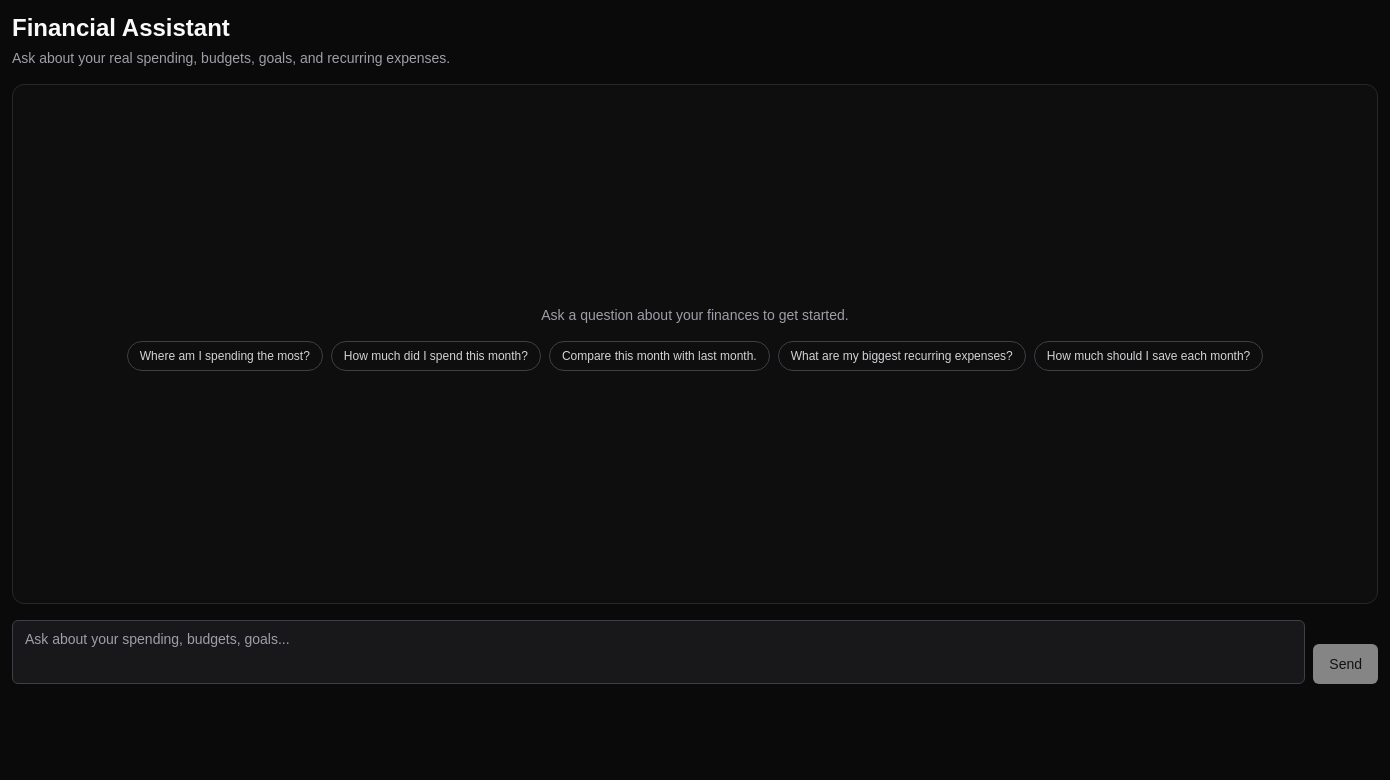
Test: AiAssistantPage › sends a message and renders the assistant's response
The width and height of the screenshot is (1390, 780).
Click the button "Where am I spending the most?" at (225, 356), box [127, 341, 323, 371]
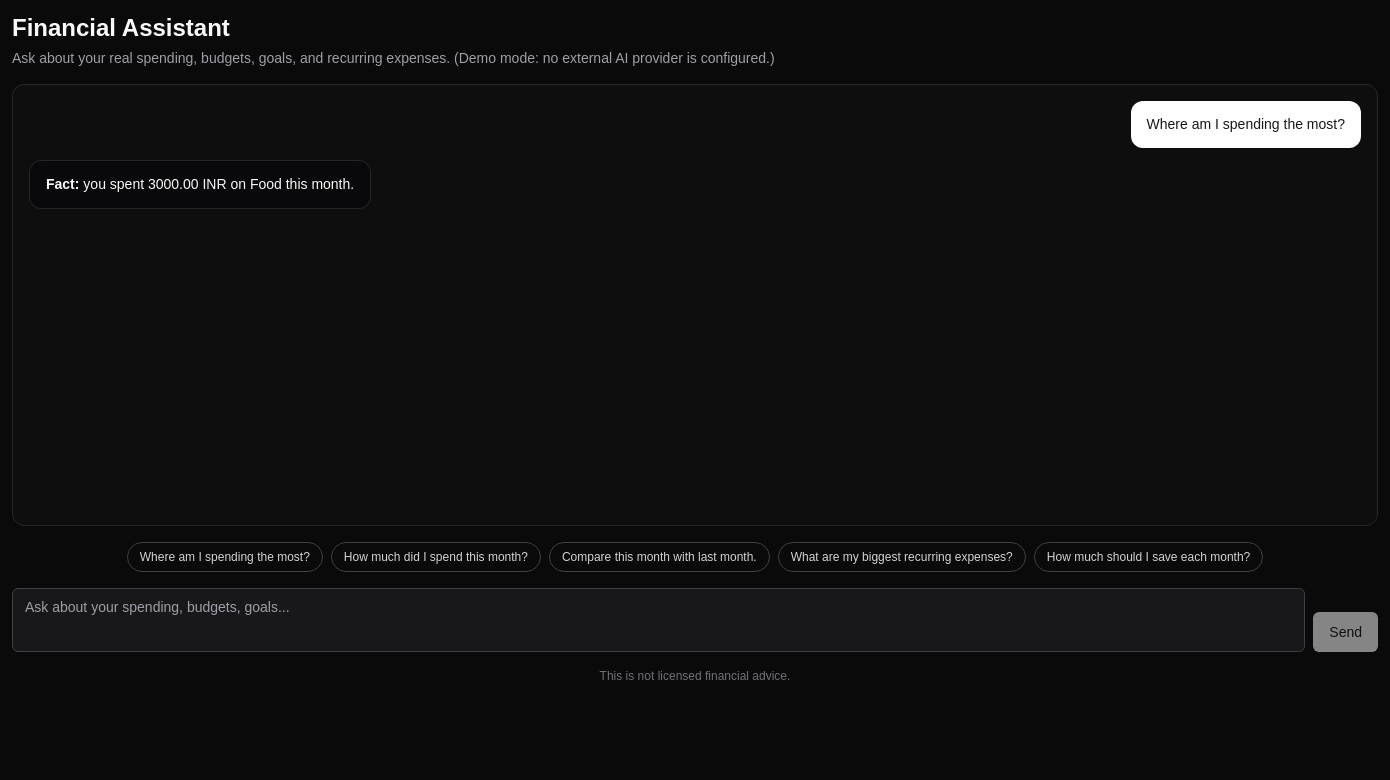
Now the text "Fact: you spent 3000.00 INR on Food this month." is shown, box [46, 173, 354, 196]
Now the text "This is not licensed financial advice." is shown, box [600, 669, 790, 683]
